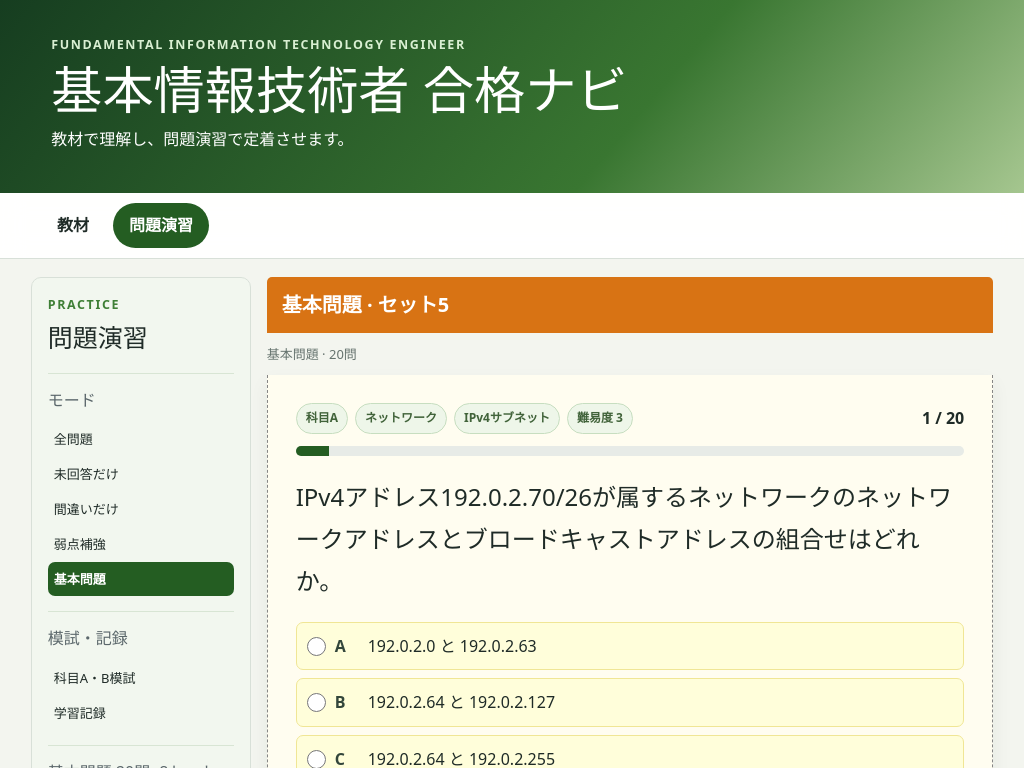
Test: 基本問題 › セット5を選ぶと20問だけ表示し、回答直後に解説を表示する
This screenshot has width=1024, height=768.
Expected: the text "基本問題 · セット5" is shown, [267,277,993,333]
Expected: the text "基本問題 · 20問" is shown, [267,345,357,363]
Click the radio button labelled "A 192.0.2.0 と 192.0.2.63". click: x=316, y=646
box: [307,637,326,656]
(page scrolled)
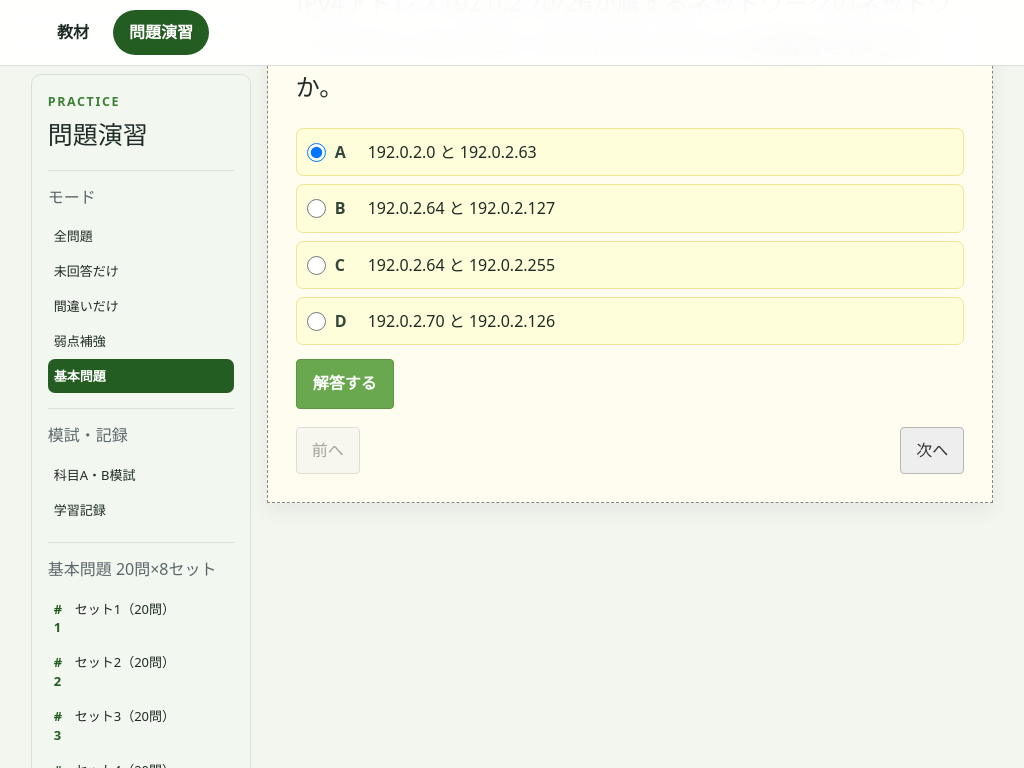
Click the button "解答する". click: x=345, y=384
box: [296,359,394,409]
(page scrolled)
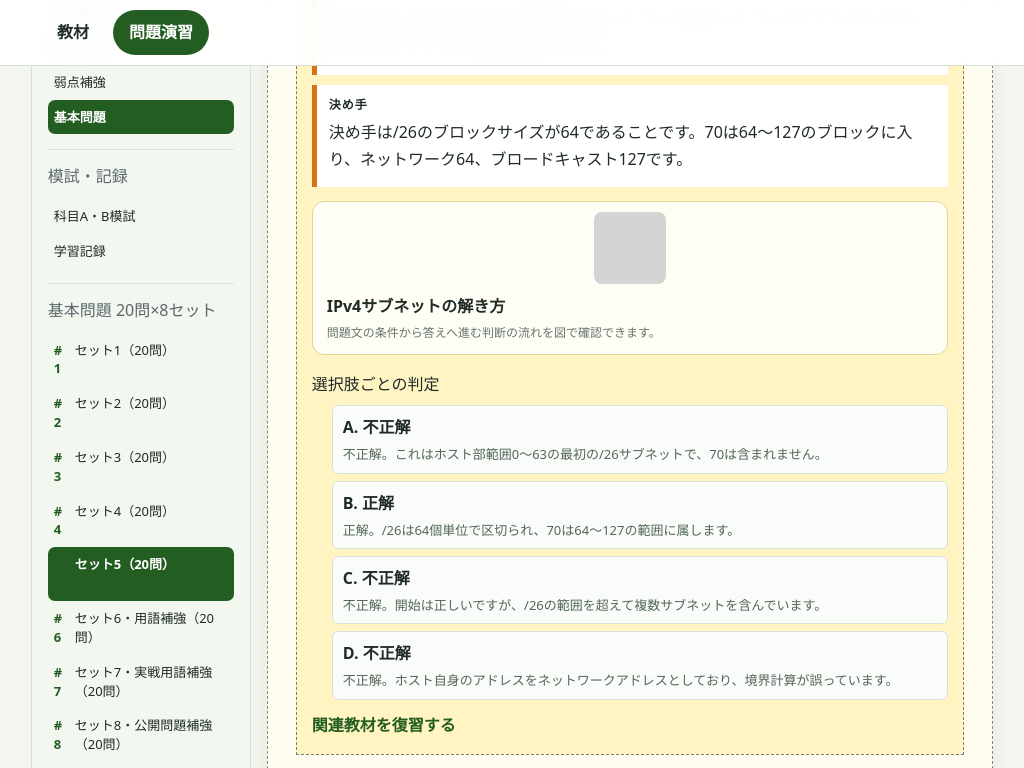
Now the text "決め手" is shown, box [329,96,368,112]
Now the heading "選択肢ごとの判定" is shown, box [312,373,440,395]
